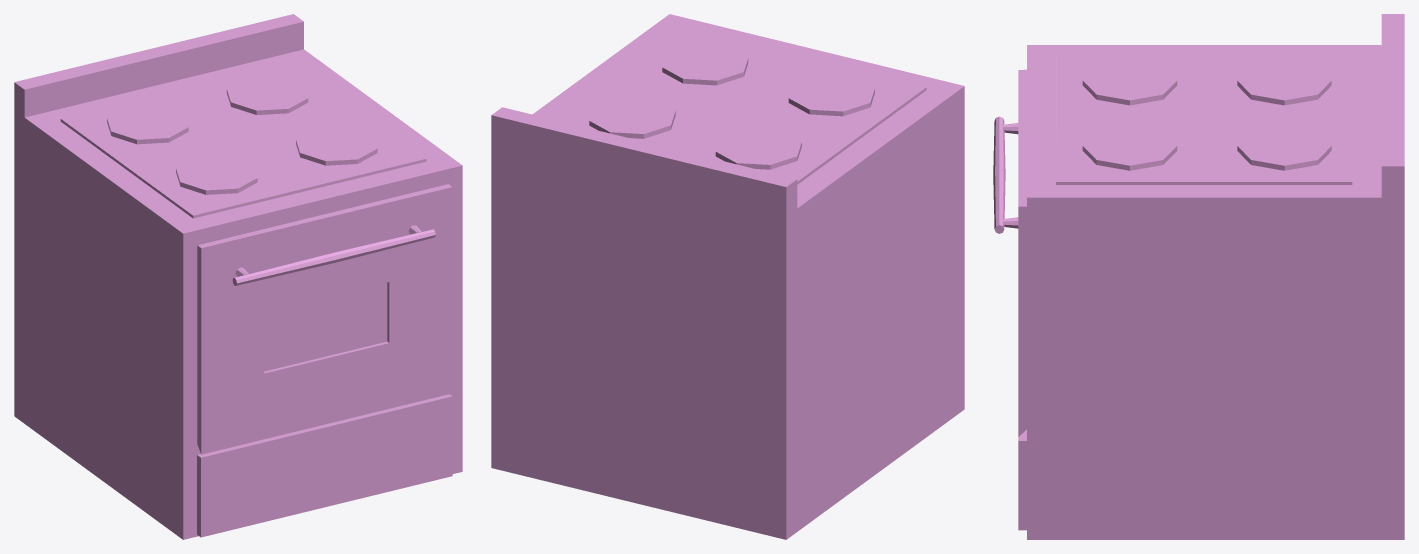
Rendered from fogao 1.fbx.
The picture shows the model from 3 angles, left to right: view 1: azimuth 30°, elevation 25°; view 2: azimuth 150°, elevation 25°; view 3: azimuth 270°, elevation 25°; orthographic projection. The views are drawn at different scales.
Visible parts, largest first — view 1: Fogão; view 2: Fogão; view 3: Fogão.
Boxes of the visible parts, left/top/right/bottom form: Fogão: left=14, top=14, right=462, bottom=539; Fogão: left=491, top=14, right=964, bottom=539; Fogão: left=993, top=14, right=1404, bottom=539.
Bounding box in the file's own units: 210 × 240 × 240.
